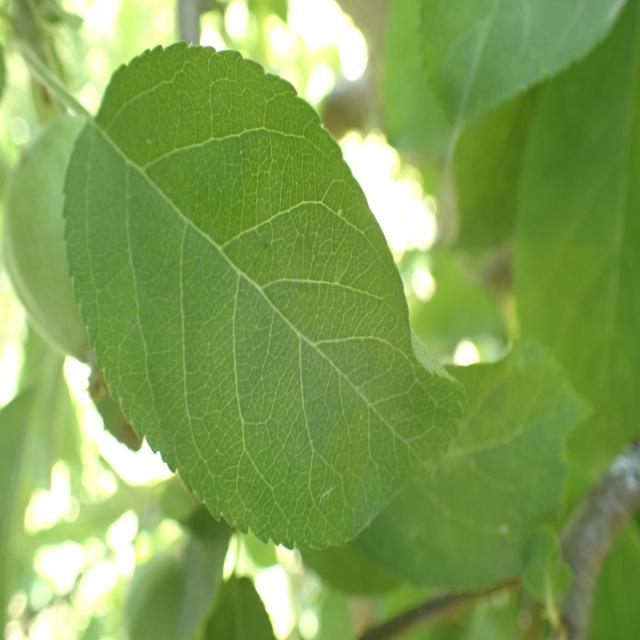healthy: (61, 40, 469, 550), (300, 334, 592, 594)
